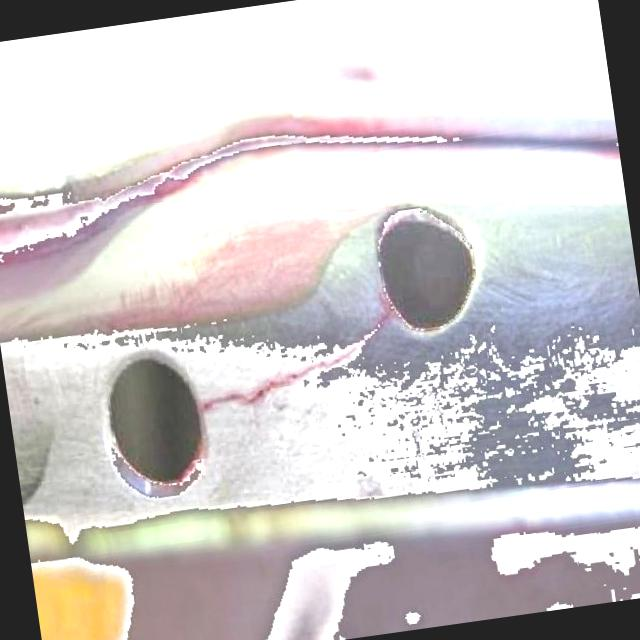crack: (200, 354, 346, 414), (336, 310, 399, 354)
